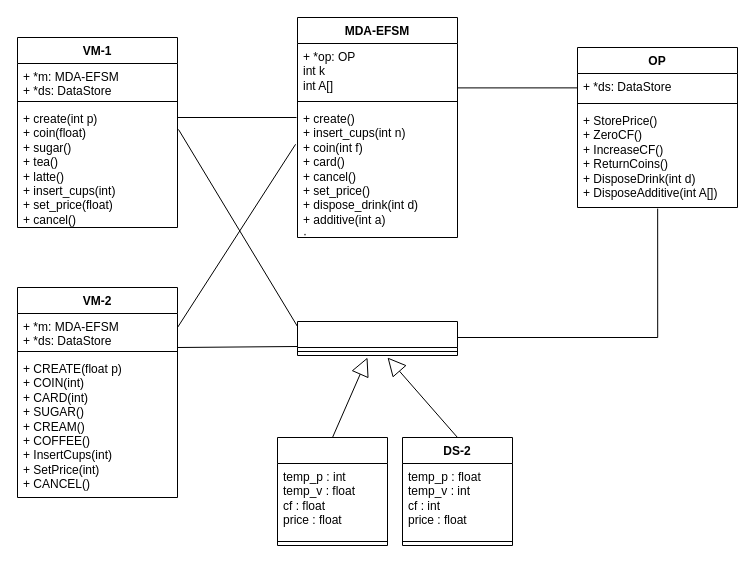
The diagram is 755 pixels wide and 563 high, and some of its shapes have lost their labels. The shapes that lost their labels are listed below. From the top down, each one's box as (x1, y1, x2, y2) in pixels, then its label:
(296, 320, 458, 356): DataStore
(276, 436, 388, 546): DS-1
